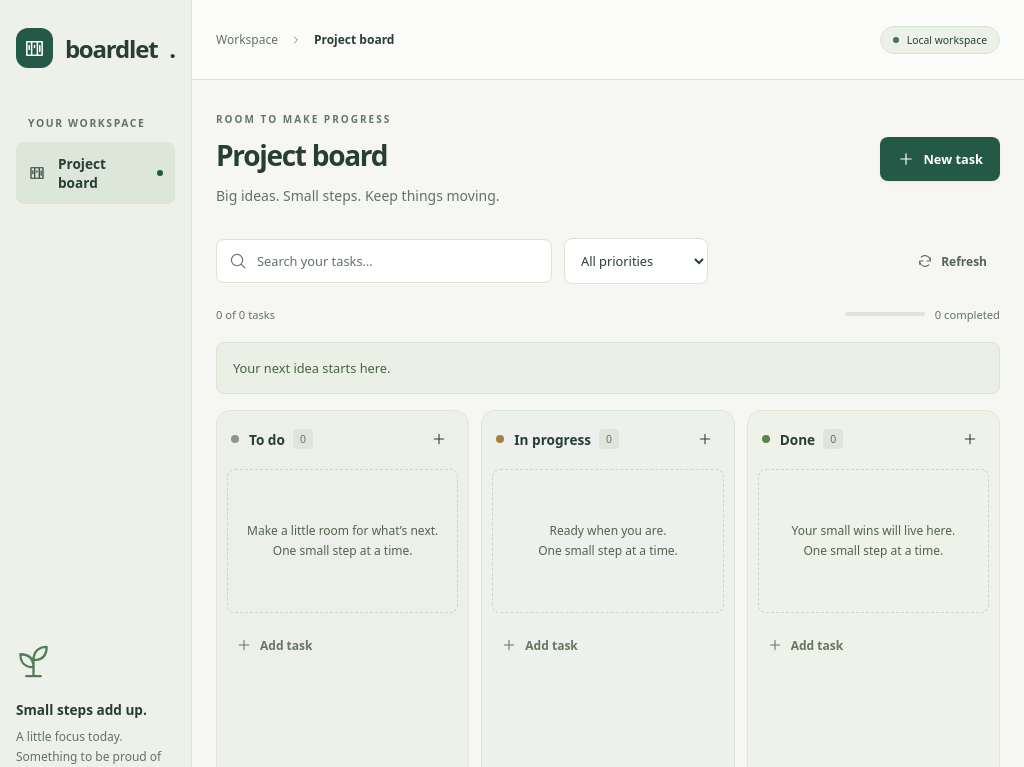
Test: Boardlet user journeys › preserves form input on failed save and allows a deliberate retry
The width and height of the screenshot is (1024, 767).
Expected: the text "Your next idea starts here." is shown, [216, 342, 1000, 394]
Click the button "New task".
click(940, 159)  # box [880, 137, 1000, 181]
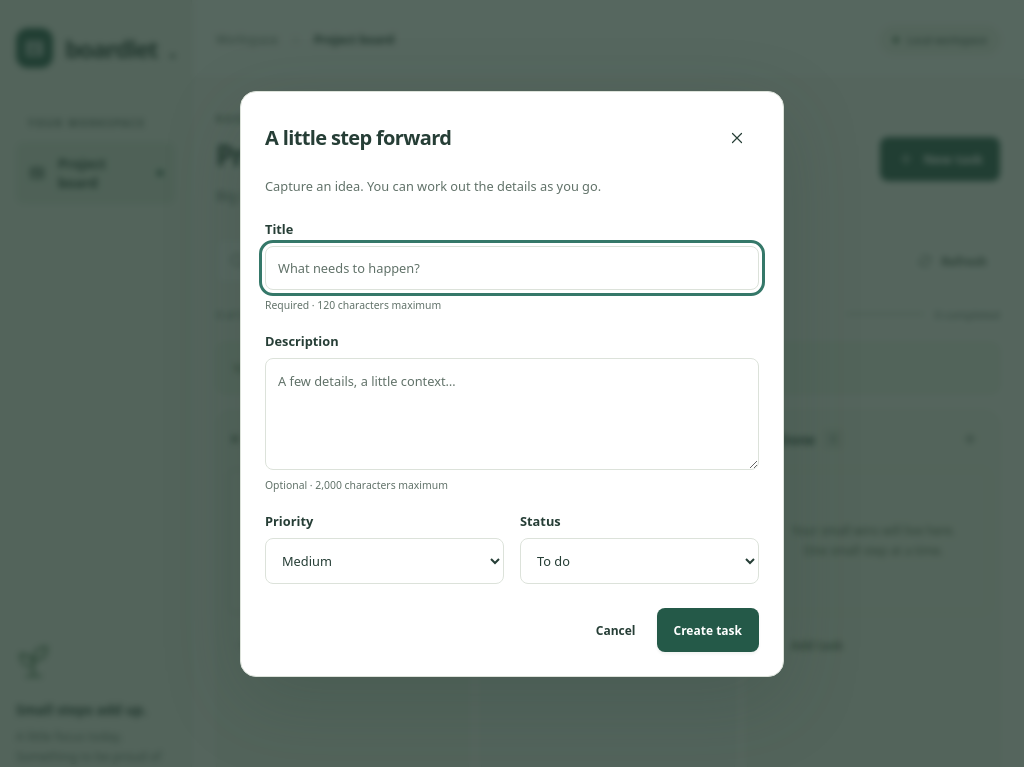
Type "Keep my draft" into the field labelled "Title".
click(512, 268); type("Keep my draft")  # box [265, 246, 759, 290]
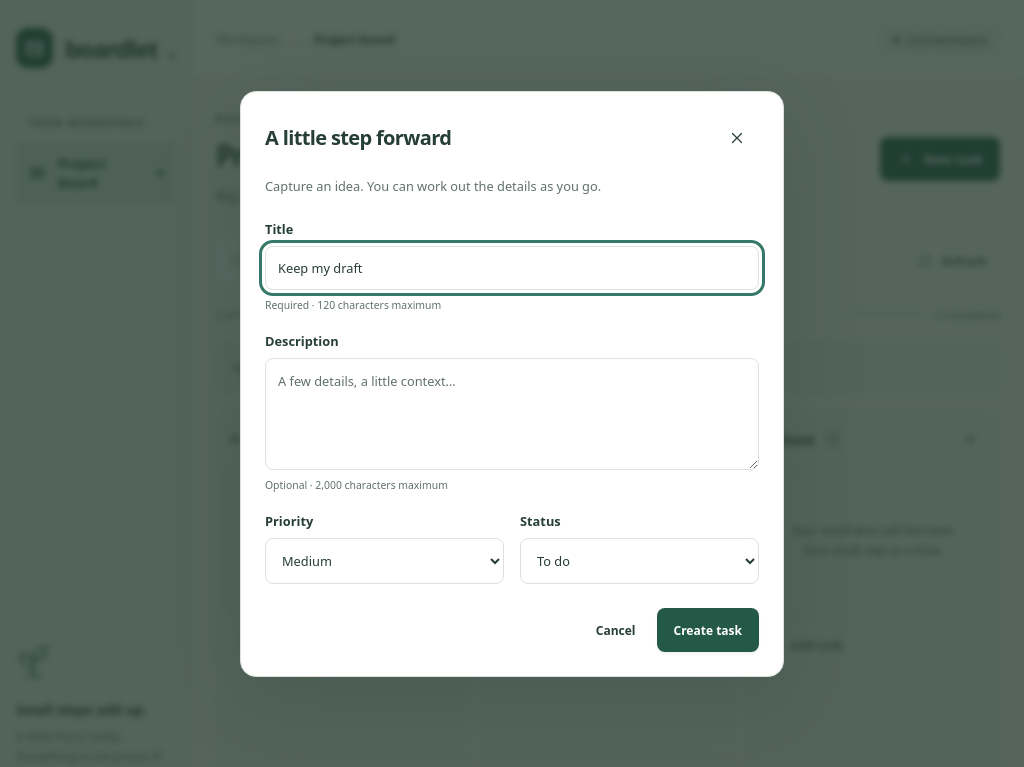
Click the button "Create task".
click(708, 630)  # box [656, 608, 759, 652]
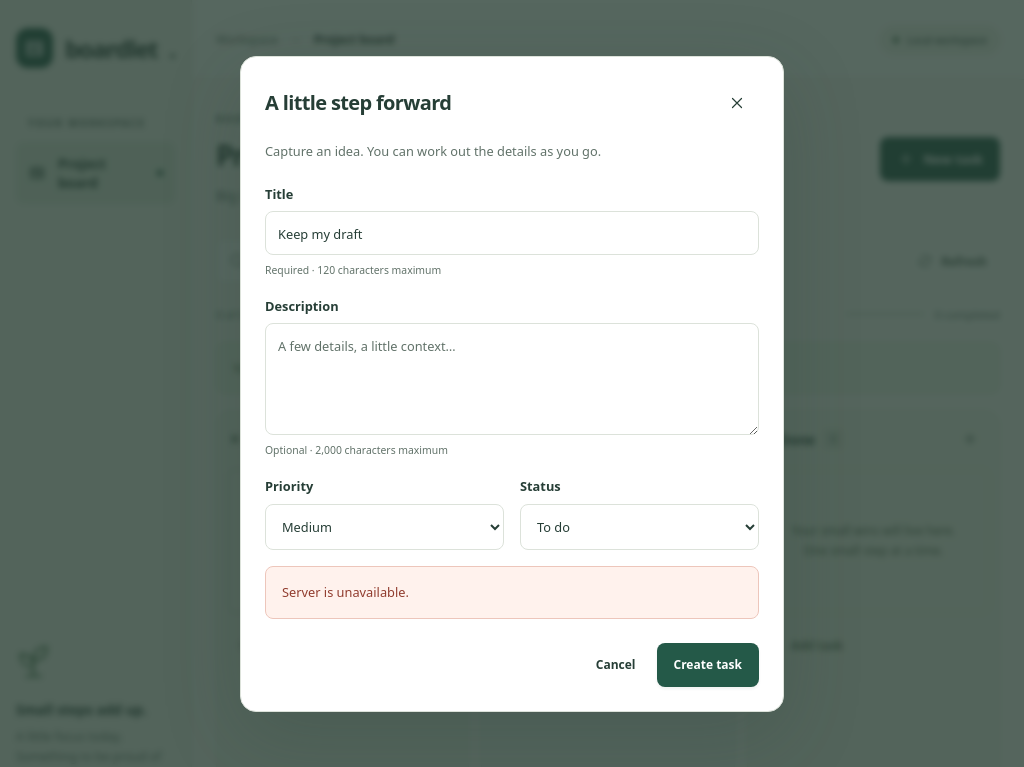
Now the message reads "Server is unavailable.", box [282, 583, 409, 601]
Click the button "Create task".
click(708, 665)  # box [656, 643, 759, 687]
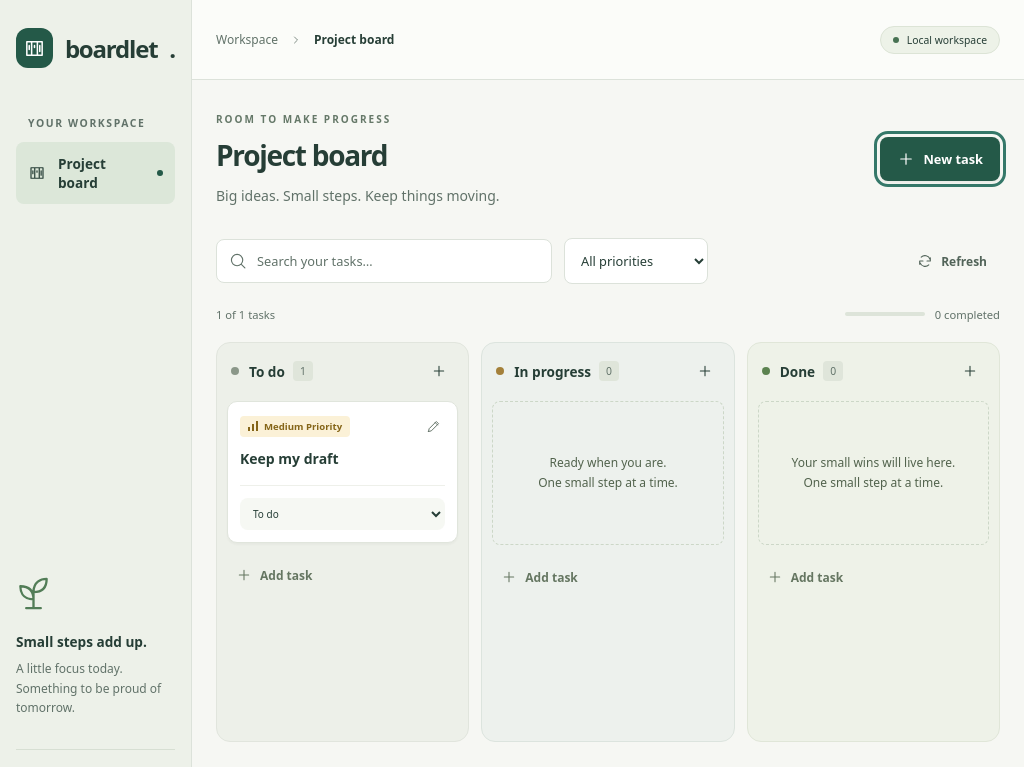
Now the heading "Keep my draft" is shown, box [240, 449, 339, 468]
